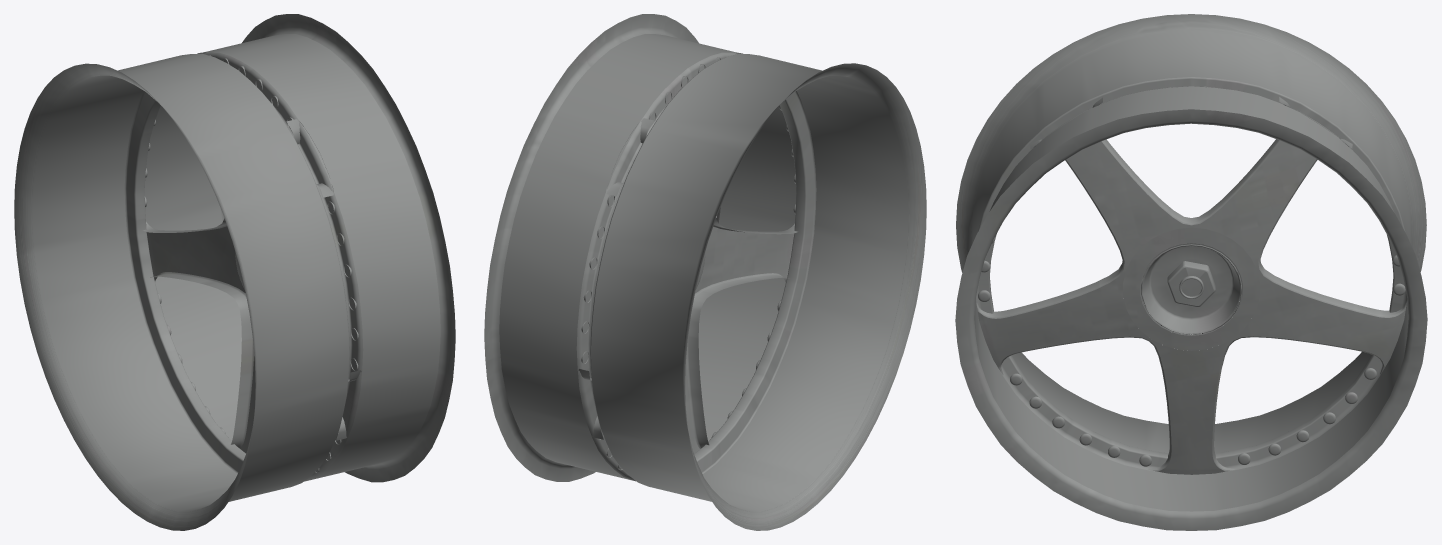
The model's file is RightFrontWheel.obj.
The picture shows the model from 3 angles, left to right: view 1: azimuth 30°, elevation 25°; view 2: azimuth 150°, elevation 25°; view 3: azimuth 270°, elevation 25°; orthographic projection. The views are drawn at different scales.
Visible parts, largest first — view 1: MRS.062, MRS.003; view 2: MRS.062, MRS.003; view 3: MRS.062, MRS.003, MRS.002, MRS.001, MRS.005.
Boxes of the visible parts, <box> form: MRS.062: <box>14,14,455,530</box>; MRS.003: <box>143,52,361,453</box>; MRS.062: <box>484,14,926,530</box>; MRS.003: <box>578,52,797,453</box>; MRS.062: <box>955,14,1427,530</box>; MRS.003: <box>976,97,1406,474</box>; MRS.002: <box>1123,227,1259,350</box>; MRS.001: <box>1140,243,1242,335</box>; MRS.005: <box>1167,261,1215,307</box>.
Bounding box in the file's own units: 0.5213 × 1.07 × 1.09.
1 material, 1 textured.
